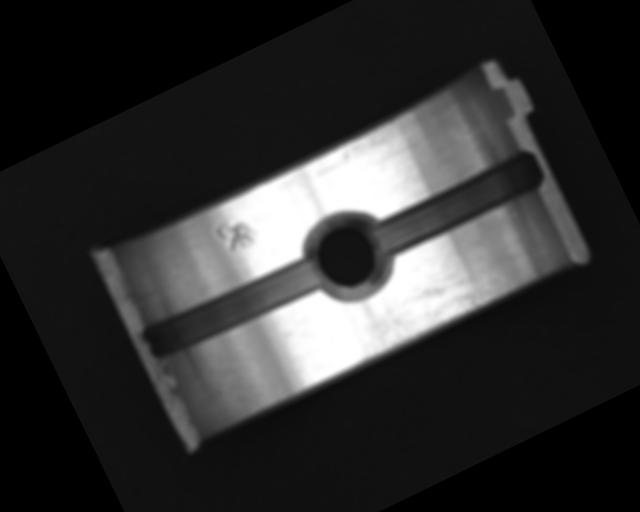bruise: (213, 211, 262, 257)
gap: (135, 243, 329, 370), (366, 146, 548, 263)
hole: (291, 198, 404, 315)
scratch: (332, 246, 511, 369)
